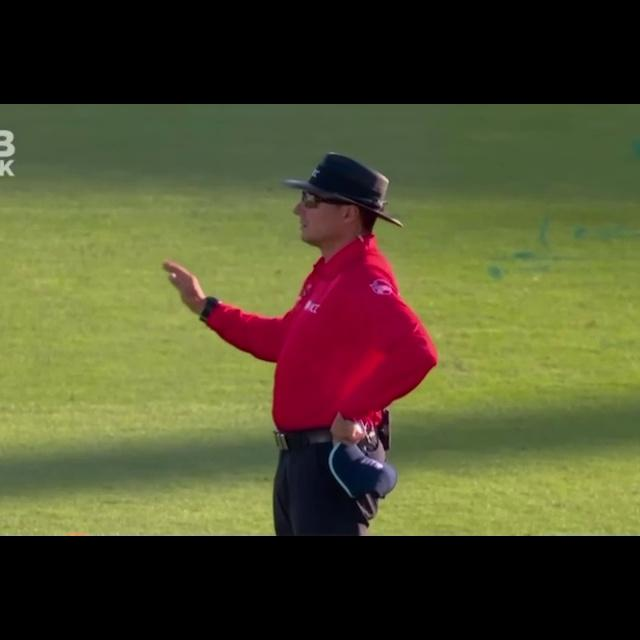umpire: (149, 143, 450, 536)
